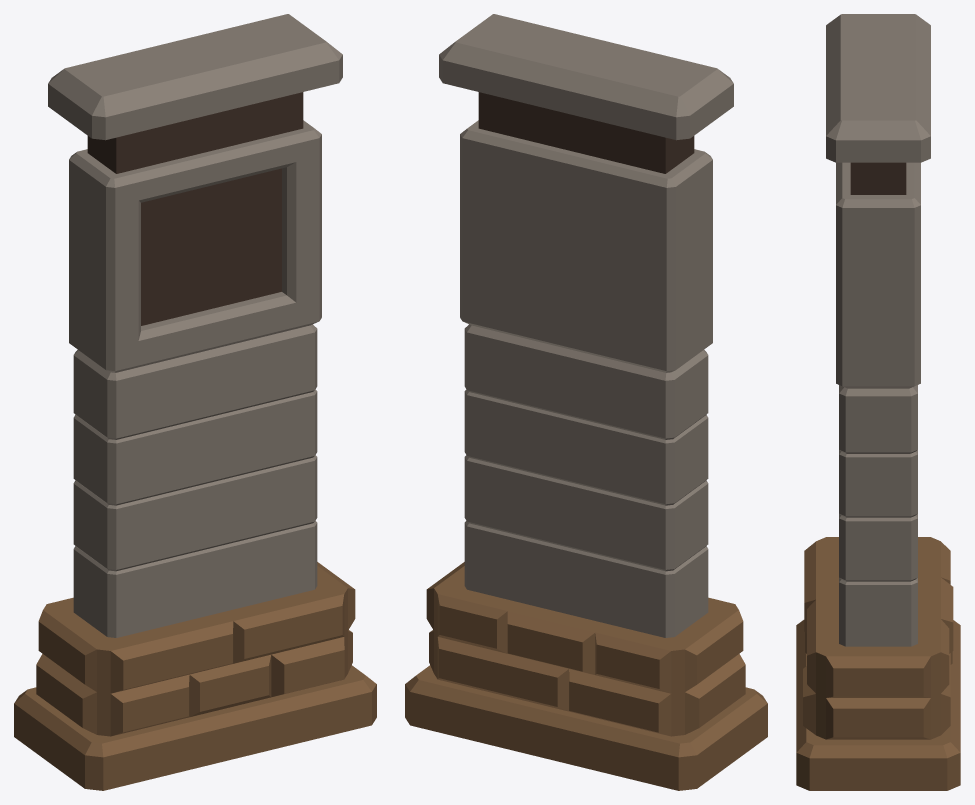
File: wayfinding-totem-decal-d2f704.glb
The picture shows the model from 3 angles, left to right: view 1: azimuth 30°, elevation 25°; view 2: azimuth 150°, elevation 25°; view 3: azimuth 270°, elevation 25°; orthographic projection. The views are drawn at different scales.
Parts seen in each view (by area): view 1: totem; view 2: totem; view 3: totem.
Part boxes in pixels (x1,y1,x2,y2): totem: (14, 14, 376, 790); totem: (405, 14, 767, 790); totem: (796, 14, 960, 790).
Bounding box in the file's own units: 1 × 2.2 × 0.5.
